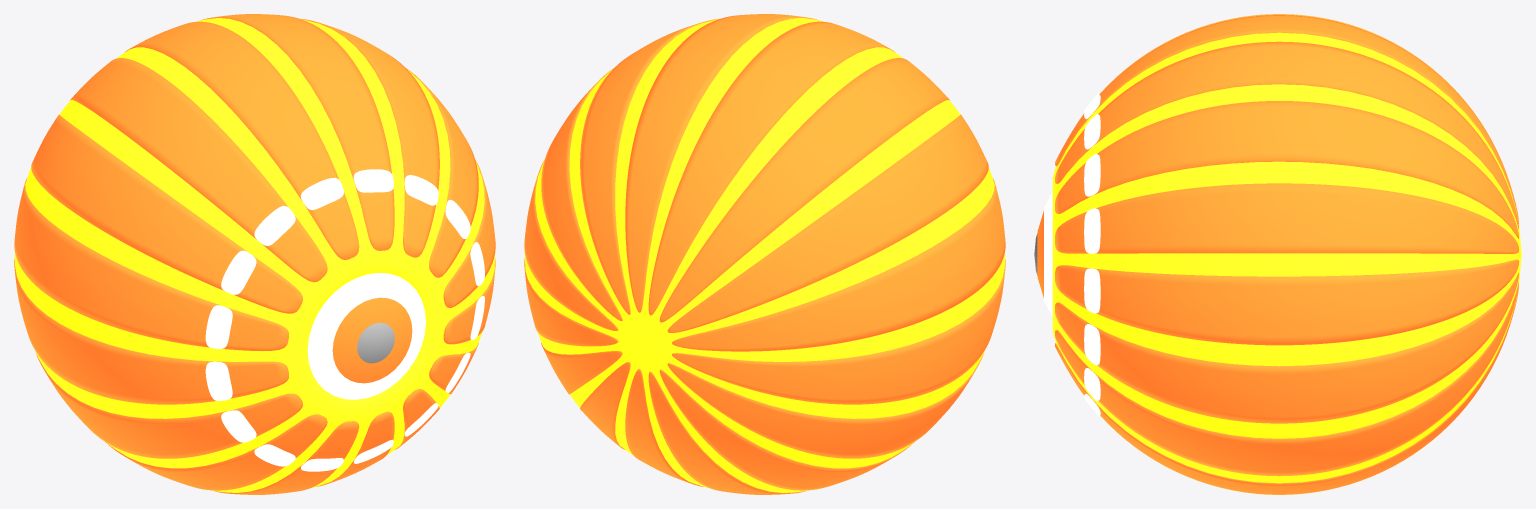
The model's file is SunEye_test.fbx.
3 renders of one model, left to right at view 1: azimuth 30°, elevation 25°; view 2: azimuth 150°, elevation 25°; view 3: azimuth 270°, elevation 25°, orthographic.
Visible parts, largest first — view 1: shell粗.001, 球.001, 粗点.001, 黄虹膜.001, 红虹膜.001, 球体.001; view 2: shell粗.001, 球.001; view 3: shell粗.001, 球.001, 粗点.001, 黄虹膜.001.
Part boxes in pixels (box(x1,y1,x2,y2)): shell粗.001: box(14, 14, 495, 494); 球.001: box(14, 18, 495, 492); 粗点.001: box(205, 169, 484, 471); 黄虹膜.001: box(307, 273, 425, 399); 红虹膜.001: box(332, 297, 412, 383); 球体.001: box(357, 322, 394, 363); shell粗.001: box(524, 14, 1005, 494); 球.001: box(524, 18, 1005, 492); shell粗.001: box(1055, 14, 1519, 494); 球.001: box(1052, 16, 1521, 483); 粗点.001: box(1084, 93, 1100, 415); 黄虹膜.001: box(1044, 192, 1052, 316).
Bounding box in the file's own units: 198 × 198 × 201.
